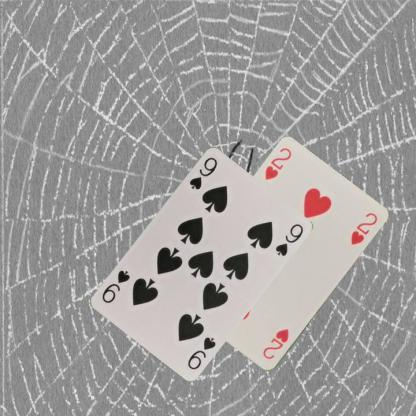2h: (262, 145, 293, 181), (260, 327, 290, 361)
9s: (185, 333, 217, 371), (186, 154, 219, 190)
